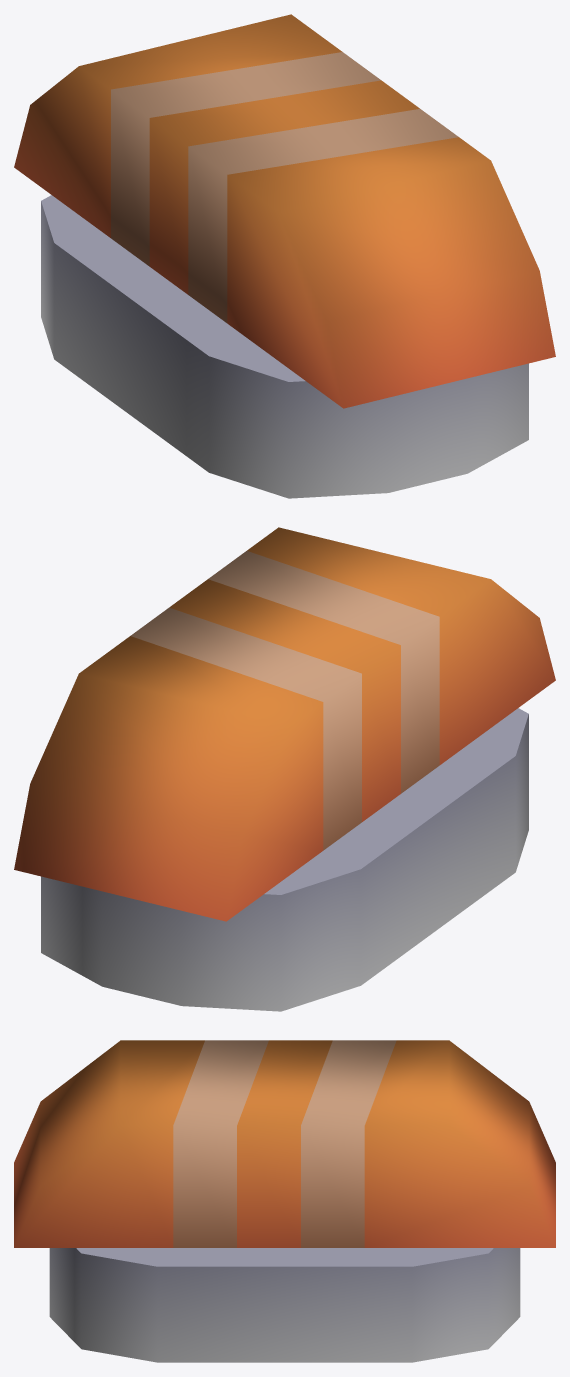
Rendered from fancy-garbage.glb.
3 views of the same model, one above another, from view 1: azimuth 30°, elevation 25°; view 2: azimuth 150°, elevation 25°; view 3: azimuth 270°, elevation 25° (orthographic). The views are drawn at different scales.
Visible parts, largest first — view 1: fancy-garbage; view 2: fancy-garbage; view 3: fancy-garbage.
Boxes of the visible parts, x1,y1,x2,y2 form: fancy-garbage: (14,14,555,498); fancy-garbage: (14,527,555,1011); fancy-garbage: (14,1040,555,1362).
Bounding box in the file's own units: 0.129 × 0.1066 × 0.24.
